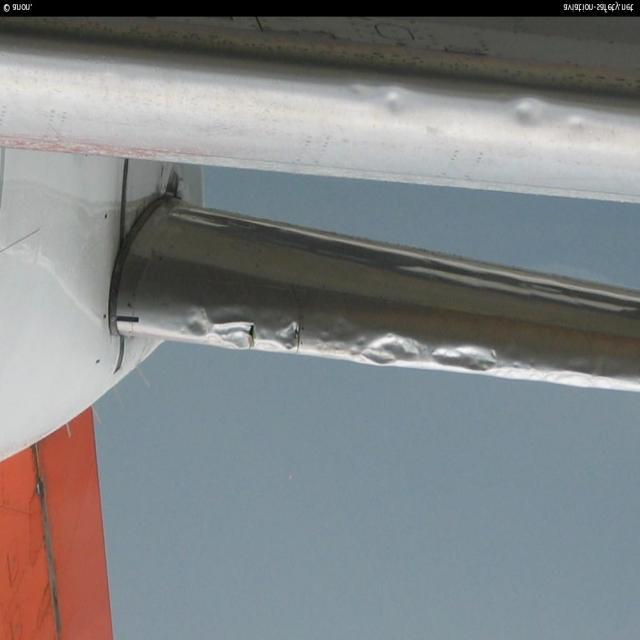dent: (184, 305, 262, 353), (428, 342, 502, 380), (356, 331, 428, 370), (506, 93, 556, 129), (374, 88, 411, 126), (276, 320, 307, 352), (563, 112, 595, 143)
